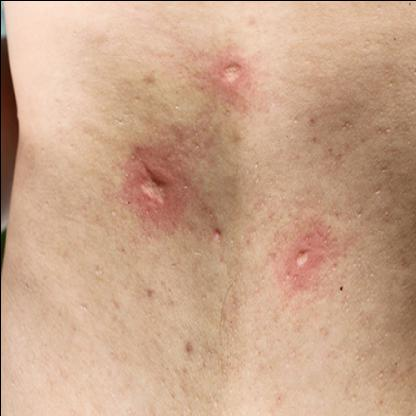Bed Bug: (116, 138, 200, 228), (274, 229, 336, 301), (204, 43, 256, 103)
